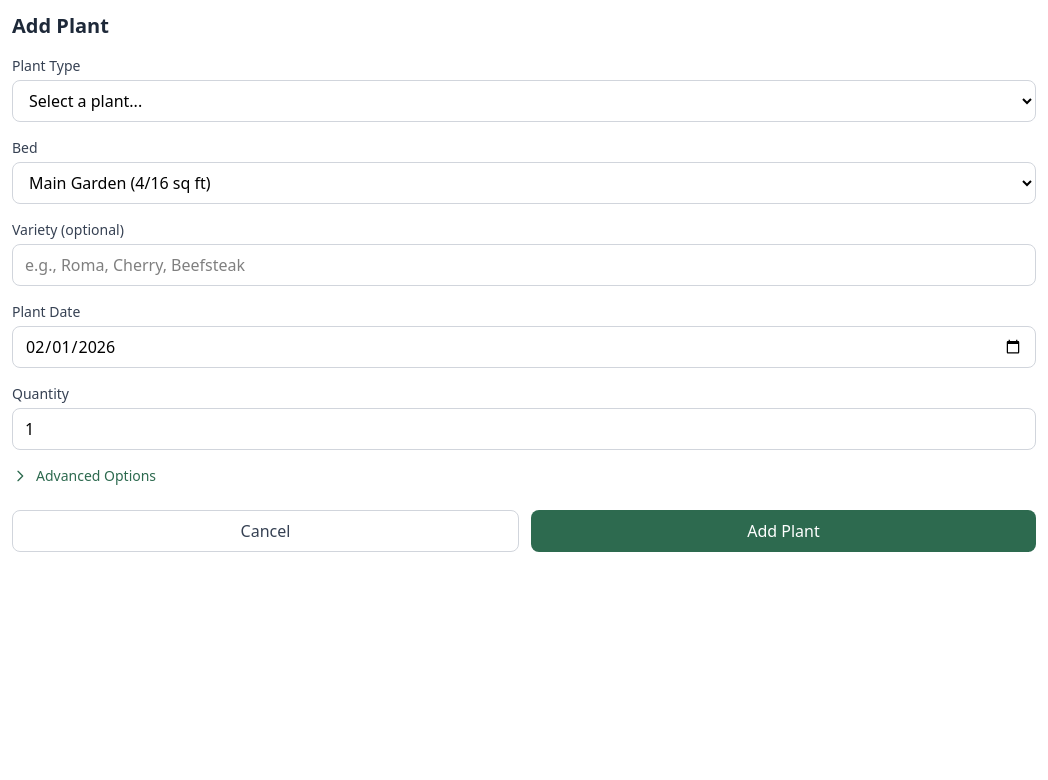
it: PlantForm › validation › validates plant type is required in add mode
Click the button "Add Plant".
click(784, 531)  # box [531,510,1036,552]
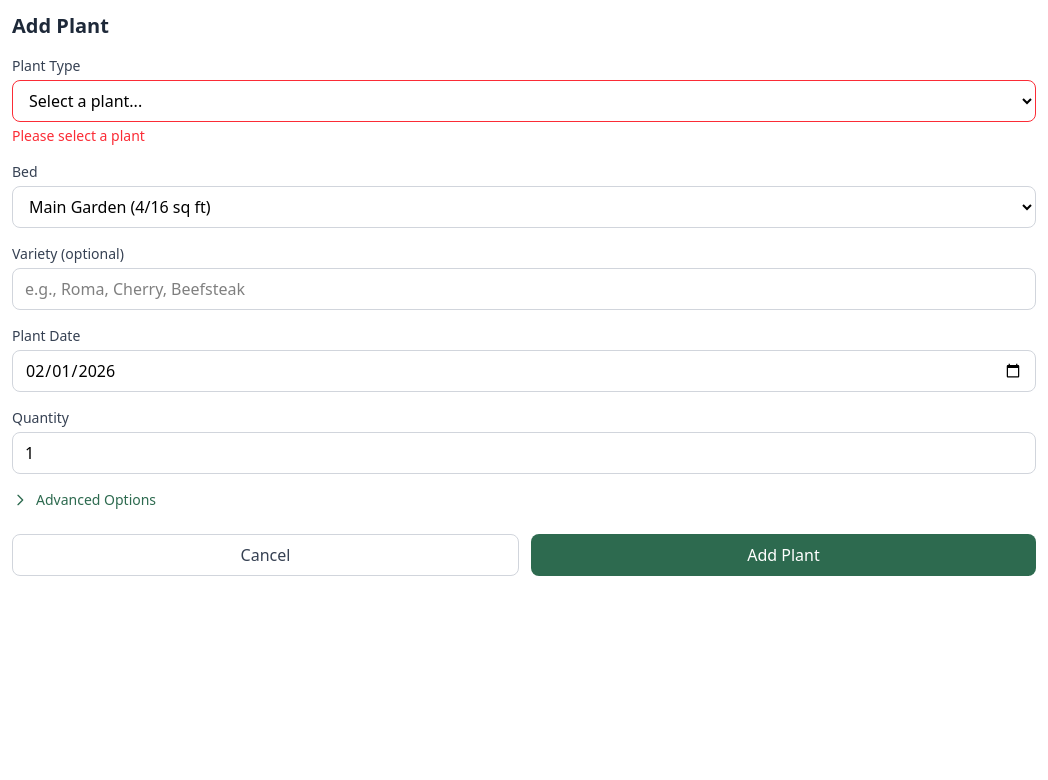
Expected: the text "Please select a plant" is shown, [12,126,145,145]
